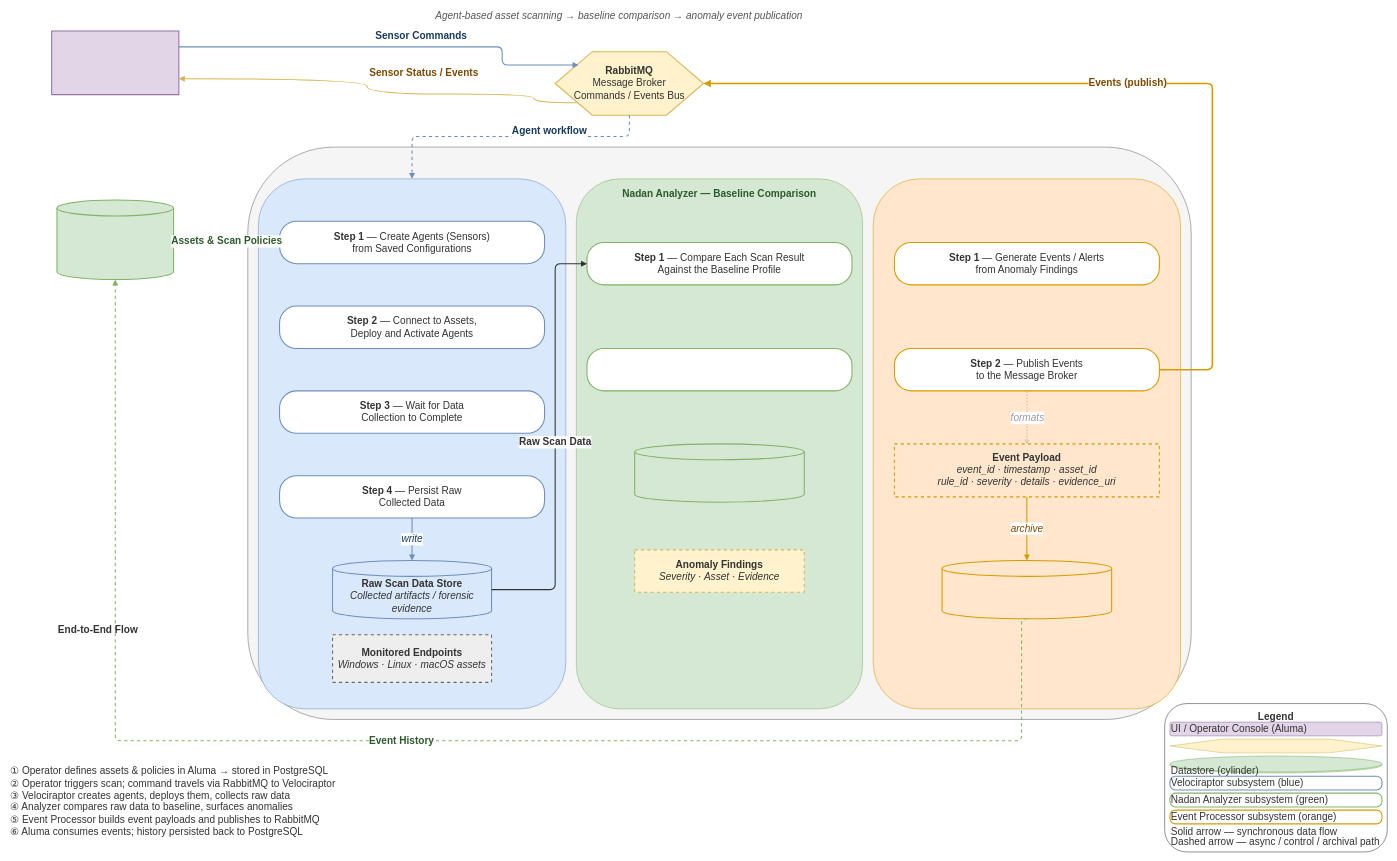
The diagram is 1397 pixels wide and 861 high, and some of its shapes have lost their labels. Here are the shapes that lost their labels. From the top down, the box of each, then its label:
(51, 30, 179, 95): Aluma Management UI / Dashboard Operator Console
(56, 199, 174, 280): PostgreSQL Assets & Scan Policies Baselines · Event History
(586, 348, 852, 391): Step 2 — Identify Potential Security Anomalies & Deviations
(258, 178, 566, 709): Agent Management Server — Data Collection Engine
(247, 147, 1191, 719): Nadan — Security Scanning & Anomaly Detection Platform
(873, 178, 1181, 709): Event Processor — Alert Generation
(634, 443, 805, 502): Baseline Profile Store Golden state · Known-good signatures
(941, 560, 1112, 619): Event Archive Long-term audit trail → back to PostgreSQL
(1169, 739, 1382, 753): Message Broker (hexagon)
